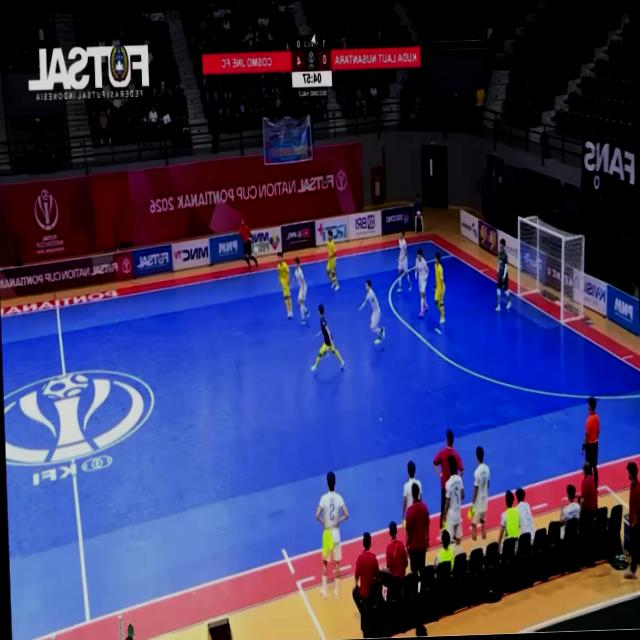keeper: (310, 305, 343, 371), (495, 239, 510, 312)
official: (432, 430, 463, 528), (405, 483, 428, 572), (624, 463, 639, 579), (237, 218, 257, 269)
players: (315, 472, 347, 598), (442, 456, 463, 546), (470, 446, 488, 544), (358, 280, 383, 344), (294, 256, 310, 323), (276, 252, 291, 319), (415, 249, 428, 317), (396, 232, 410, 292), (326, 230, 338, 290), (434, 253, 444, 324)
referee: (581, 397, 598, 489), (237, 218, 257, 268)
